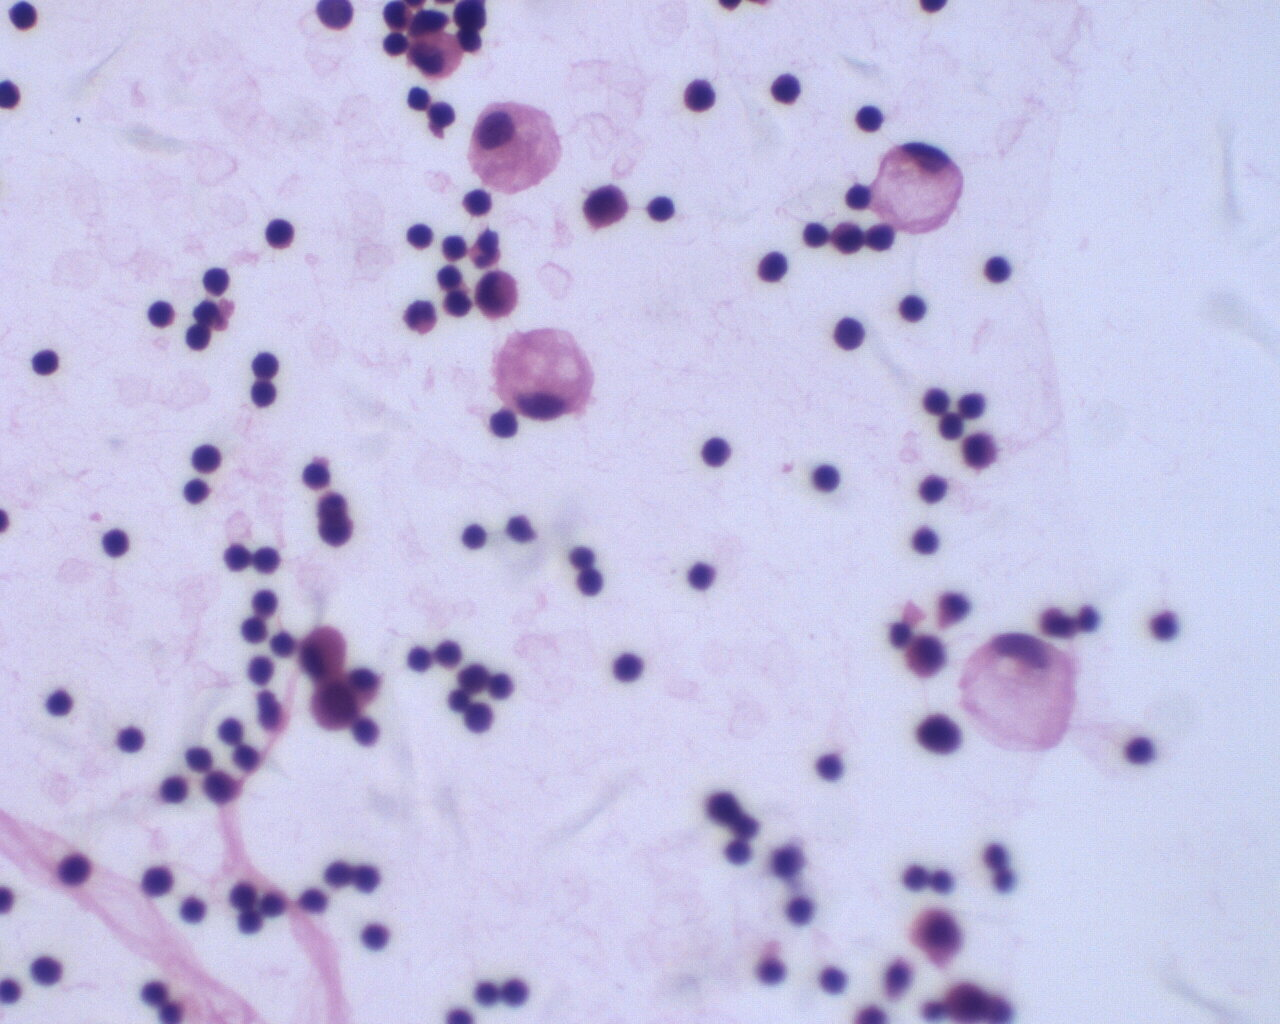ab: (306, 674, 365, 736)
histo: (955, 629, 1088, 761), (864, 134, 970, 242), (486, 323, 596, 425), (465, 97, 565, 197)
lymph: (680, 74, 724, 120), (261, 210, 300, 255), (692, 433, 734, 472), (608, 649, 649, 686), (830, 315, 868, 353), (26, 345, 63, 385), (185, 441, 224, 478), (755, 247, 791, 286), (811, 458, 843, 501), (100, 523, 138, 560), (982, 251, 1015, 288), (144, 297, 178, 330), (644, 193, 676, 226)
meso: (404, 30, 467, 82)
neutro: (400, 296, 440, 339)
